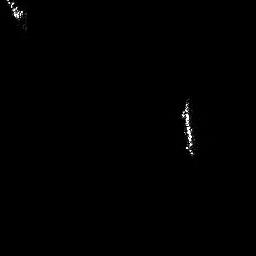ship: (179, 94, 198, 157), (3, 1, 25, 19)
